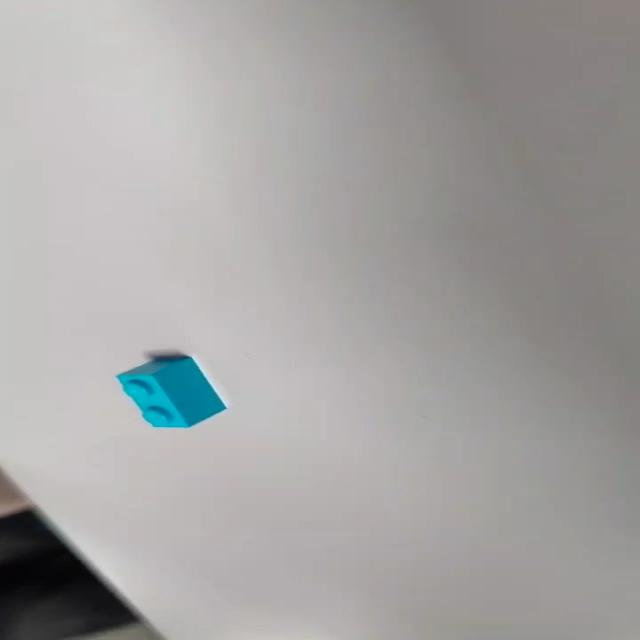C2x1x1: (113, 349, 228, 429)
